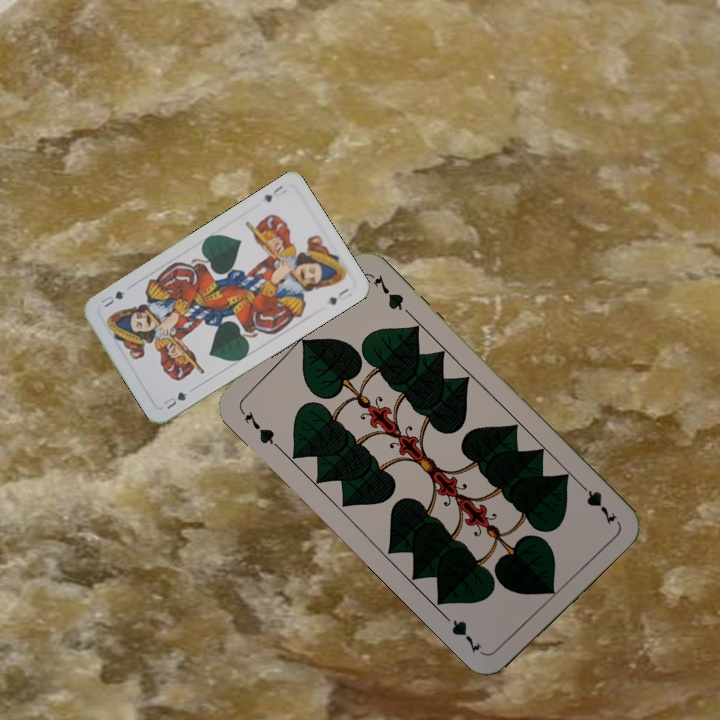G7: (573, 477, 620, 528), (235, 404, 282, 450)
GU: (159, 387, 190, 412), (259, 181, 286, 205)
